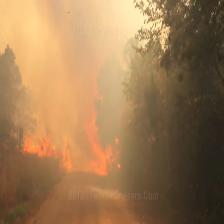fire: (6, 111, 135, 197)
smoke: (0, 0, 183, 224)
